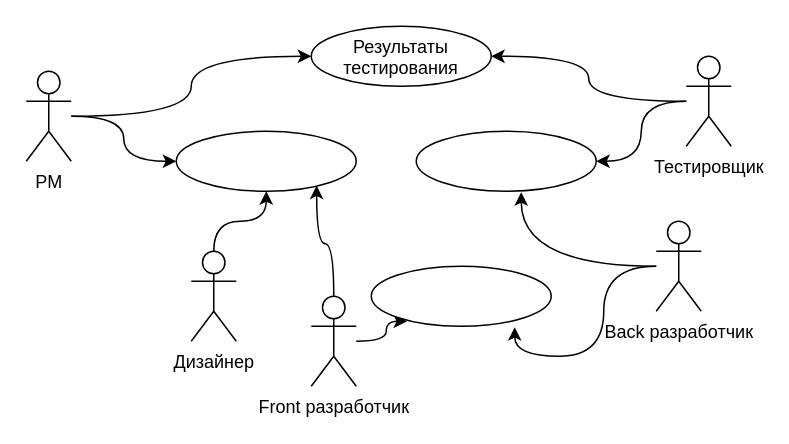
Some shapes in this 789 by 444 pixel diagram are drawn without their labels. Each missing label, with the box of its shape:
Back-end: (370, 265, 551, 326)
Дизайн сайта: (175, 130, 356, 191)
Сплитовалка: (415, 130, 596, 191)
